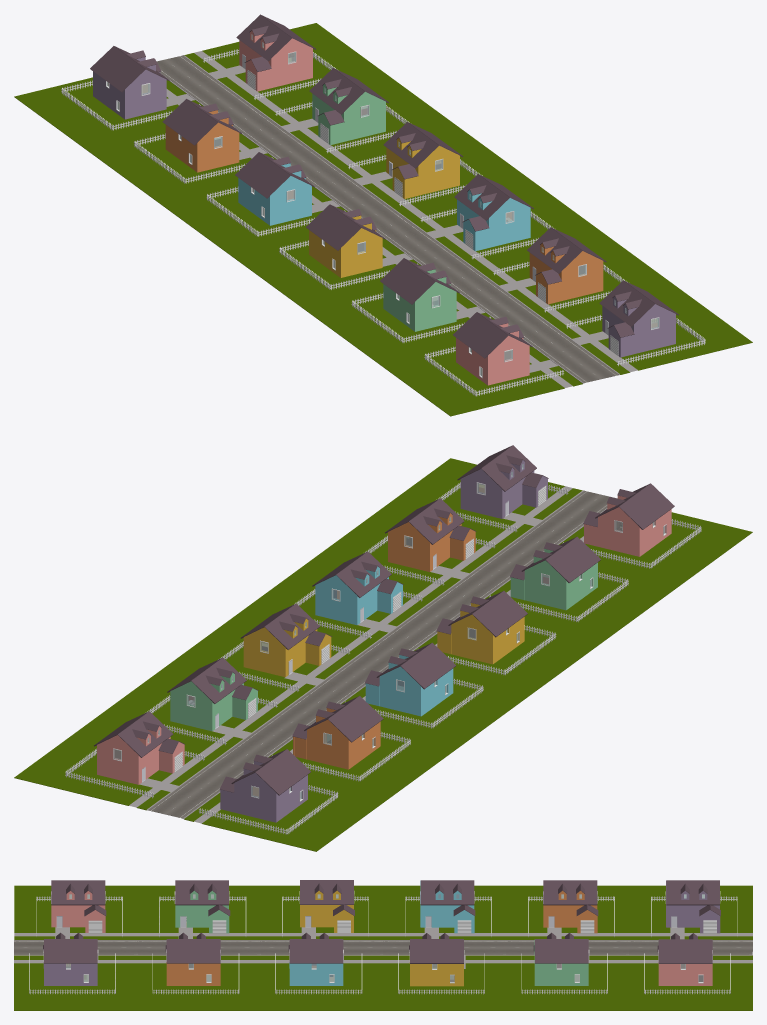
Rendered from suburbiaStreet3.fbx.
3 renders of one model, top to bottom at view 1: azimuth 30°, elevation 25°; view 2: azimuth 150°, elevation 25°; view 3: azimuth 270°, elevation 25°, orthographic. The views are drawn at different scales.
Visible parts, largest first — view 1: Sidewalk, House_E_L, House_B_L, House_F_L, House_A_L, House_D_L, House_C_L, House_E_R, House_D_R, House_F_R, House_B_R, House_C_R (+1 smaller); view 2: Sidewalk, House_D_R, House_B_R, House_E_R, House_F_R, House_C_R, House_A_R, House_C_L, House_F_L, House_B_L, House_D_L, House_E_L (+1 smaller); view 3: Sidewalk, House_D_R, House_E_R, House_C_L, House_B_R, House_F_R, House_A_R, House_B_L, House_D_L, House_E_L, House_A_L, House_F_L (+1 smaller).
Part boxes in pixels (x1,y1,x2,y2): Sidewalk: (14,23,752,416); House_E_L: (527,227,606,304); House_B_L: (309,68,388,145); House_F_L: (599,280,678,357); House_A_L: (236,14,315,91); House_D_L: (454,174,533,251); House_C_L: (383,122,462,198); House_E_R: (162,99,241,172); House_D_R: (235,152,314,225); House_F_R: (90,46,169,119); House_B_R: (380,258,459,331); House_C_R: (306,204,385,277); Sidewalk: (14,458,752,851); House_D_R: (365,642,456,716); House_B_R: (509,536,600,610); House_E_R: (292,696,383,769); House_F_R: (220,749,310,822); House_C_R: (436,591,527,664); House_A_R: (583,483,674,556); House_C_L: (240,603,331,677); House_F_L: (457,445,548,518); House_B_L: (167,657,258,731); House_D_L: (312,551,403,625); House_E_L: (385,498,476,571); Sidewalk: (14,885,752,1010); House_D_R: (420,880,475,933); House_E_R: (543,880,598,933); House_C_L: (409,933,464,986); House_B_R: (174,880,230,933); House_F_R: (665,880,720,933); House_A_R: (51,880,106,933); House_B_L: (533,932,589,985); House_D_L: (288,932,343,985); House_E_L: (165,932,220,985); House_A_L: (657,933,712,985); House_F_L: (43,932,98,985).
Size of the model in its own units: 8579 by 1255 by 21451.
